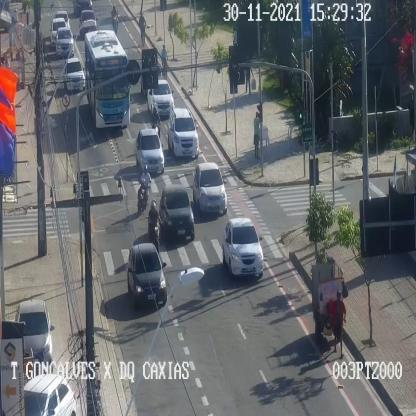bicycle: (138, 13, 146, 46), (161, 44, 168, 77)
bus: (84, 30, 131, 127)
car: (16, 299, 54, 367), (128, 242, 168, 304), (222, 219, 264, 276), (23, 374, 75, 415), (161, 184, 196, 244), (193, 162, 228, 215), (168, 108, 199, 157), (136, 129, 166, 176), (146, 80, 176, 119), (63, 57, 86, 91), (50, 16, 69, 47), (56, 27, 74, 56), (79, 9, 98, 35), (55, 11, 71, 29)
motorbike: (148, 200, 160, 254), (138, 164, 150, 212), (110, 5, 119, 34)
person: (331, 289, 346, 357), (253, 112, 259, 157), (232, 27, 237, 46)
